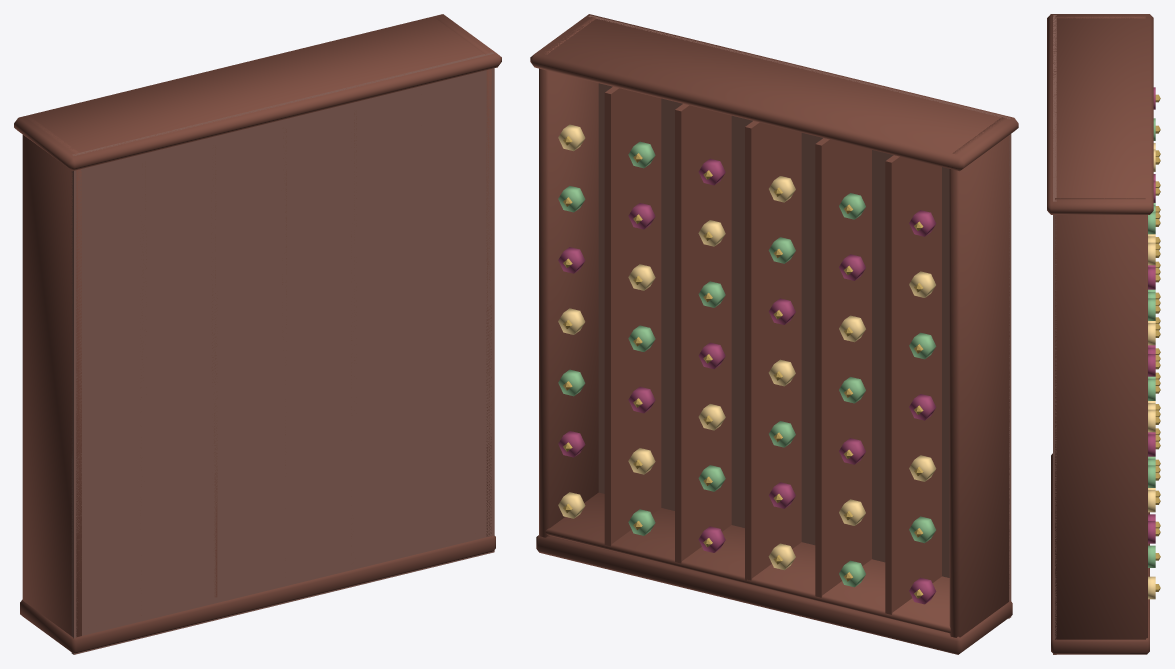
Rendered from wine_rack.glb.
The picture shows the model from 3 angles, left to right: view 1: azimuth 30°, elevation 25°; view 2: azimuth 150°, elevation 25°; view 3: azimuth 270°, elevation 25°; orthographic projection. The views are drawn at different scales.
Visible parts, largest first — view 1: wine_rack; view 2: wine_rack; view 3: wine_rack.
Boxes of the visible parts, x1=… form: wine_rack: x1=14, y1=14, x2=501, y2=654; wine_rack: x1=530, y1=14, x2=1018, y2=654; wine_rack: x1=1047, y1=14, x2=1160, y2=654.
Size of what is drawn, in the model's own units: 2 by 2.2 by 0.5.
